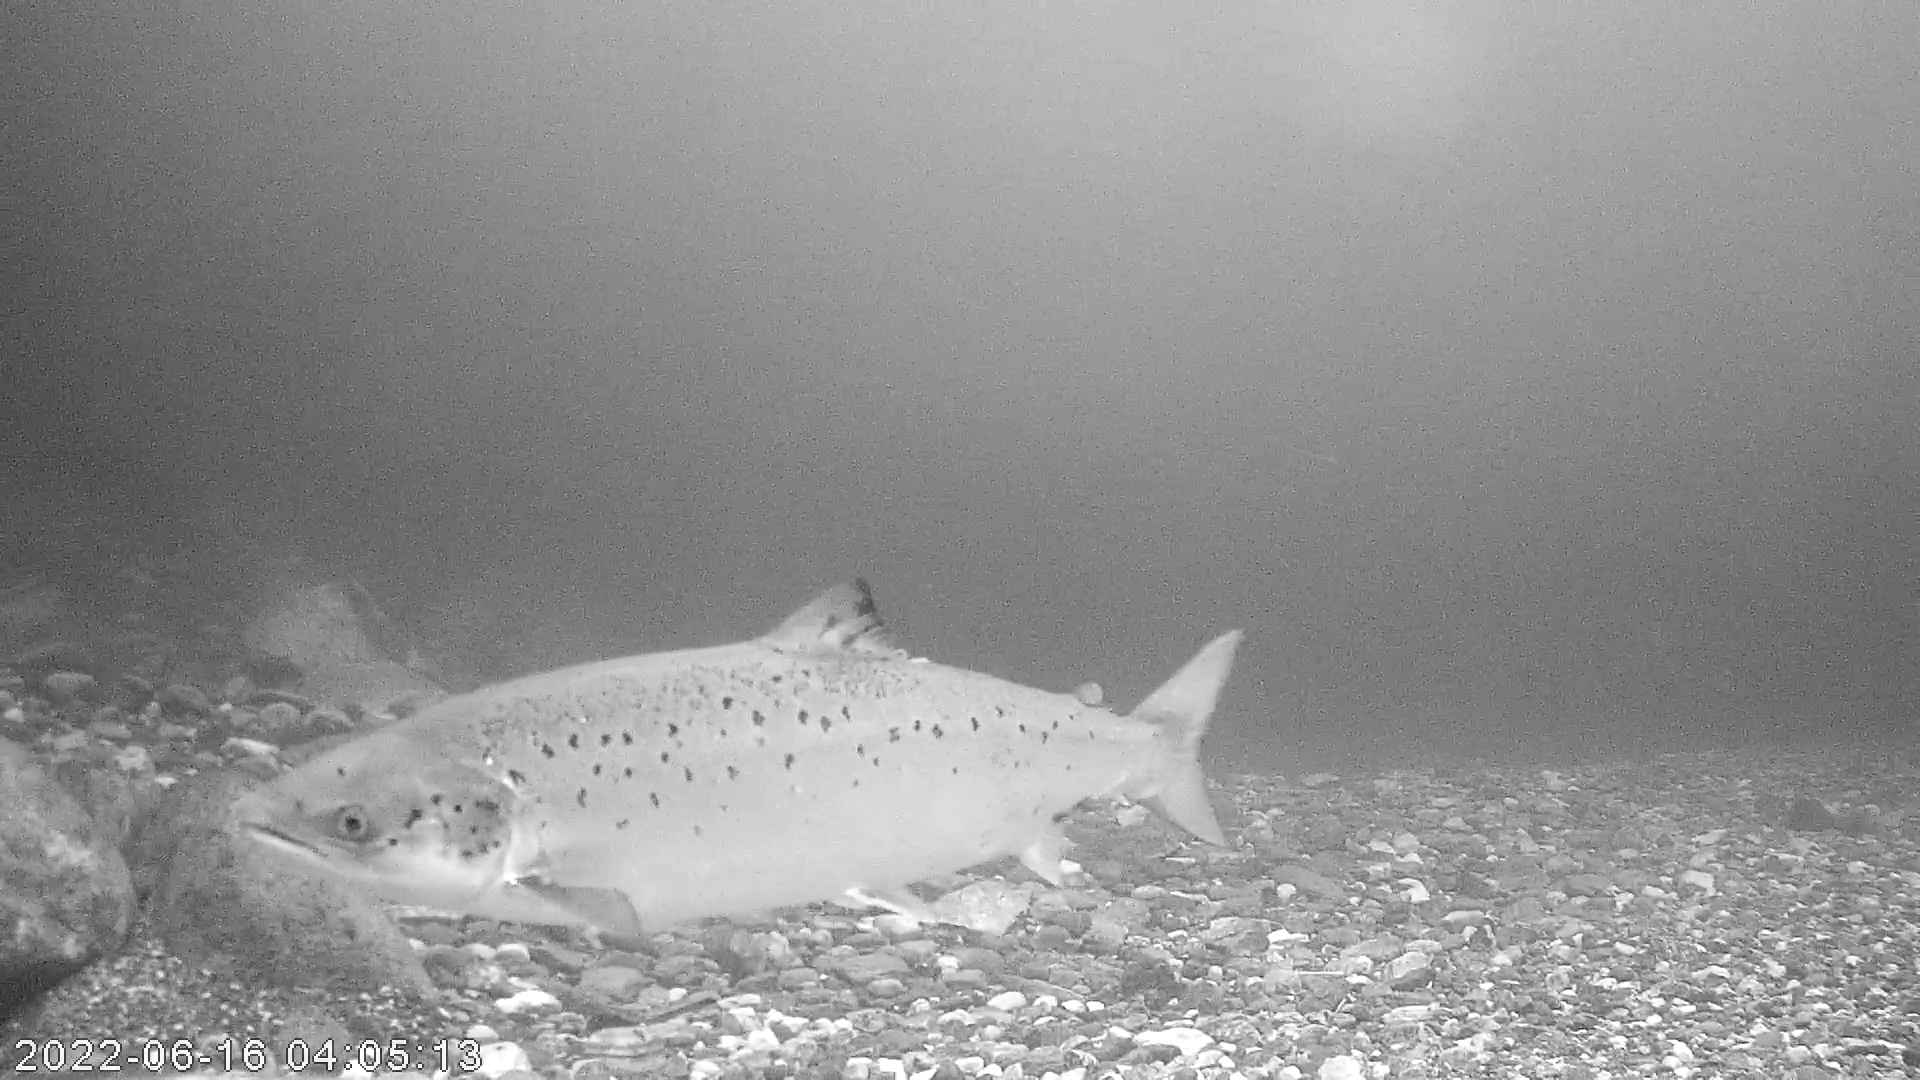salmon: (229, 578, 1244, 935)
